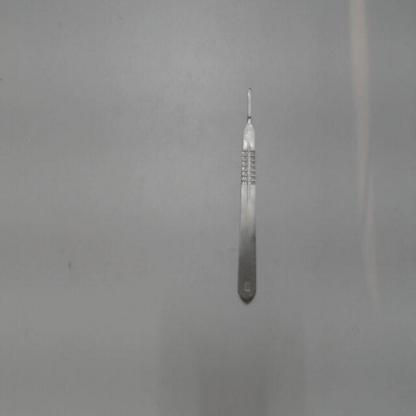No.3 BP Handle: (234, 85, 260, 315)
